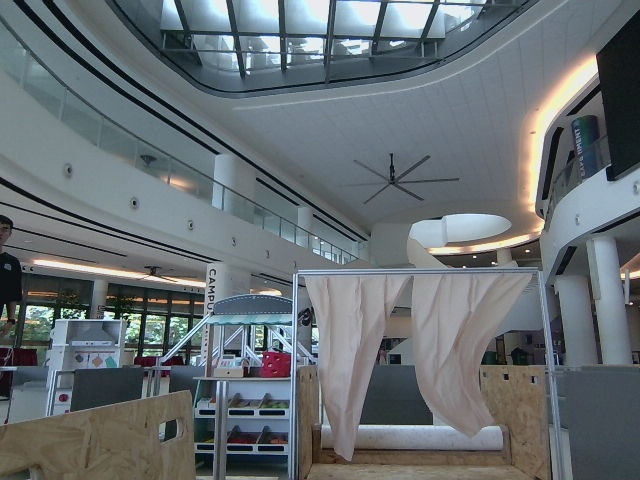curtain: (307, 240, 538, 470)
